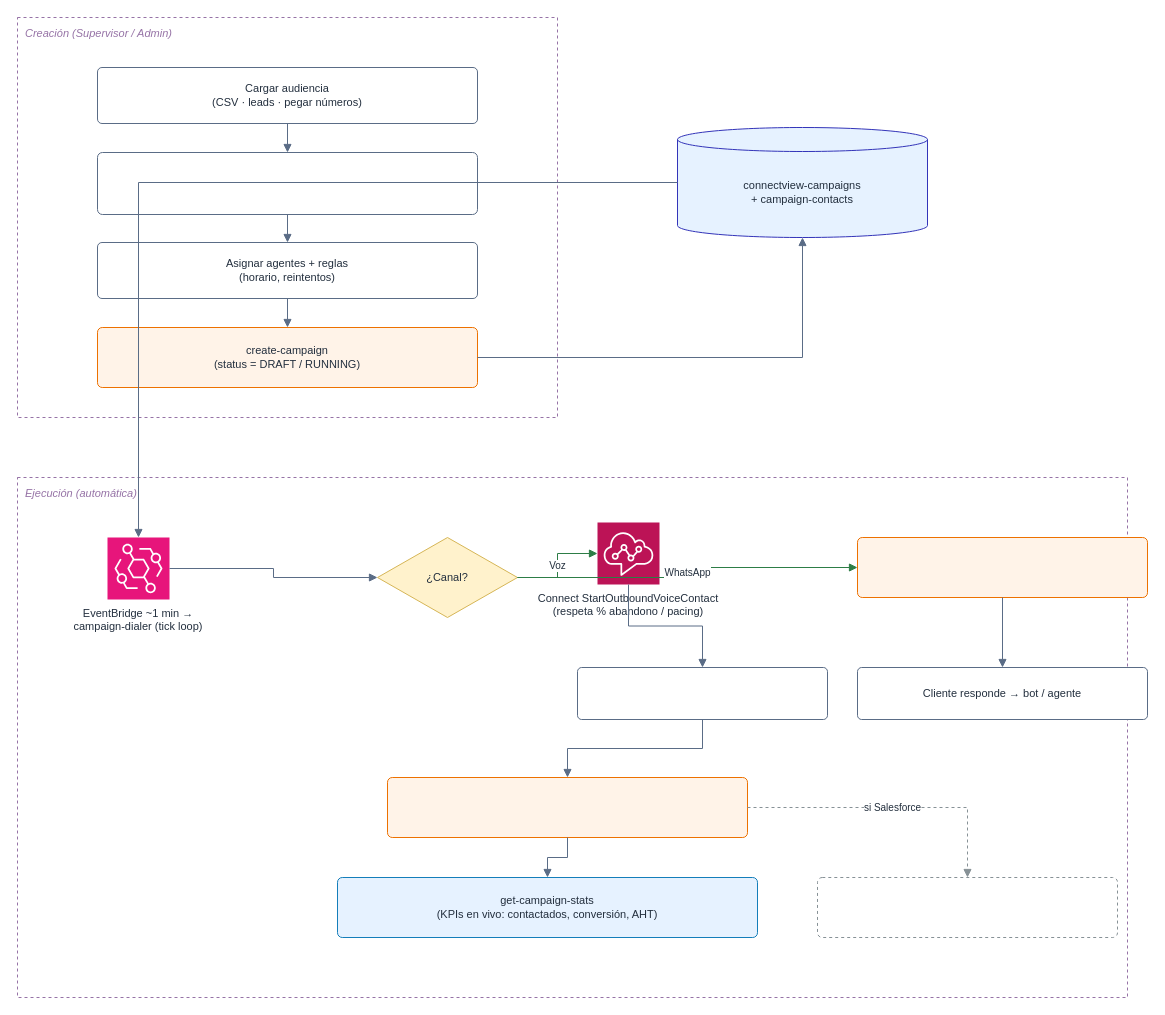
This 1165x1015 diagram has some shape labels left out. The centre of each missing label's shape, as x and y in pixels:
"Agente atiende → workspace" belongs at (x=702, y=693).
"Configurar canal (voz predictivo/power/preview · WhatsApp · email)" belongs at (x=287, y=183).
"salesforce-sync (upsert Lead / Task)" belongs at (x=967, y=907).
"send-whatsapp-template (desde el número del tenant)" belongs at (x=1002, y=567).
"Wrap-up: tipificación + notas (save-agent-notes)" belongs at (x=567, y=807).
